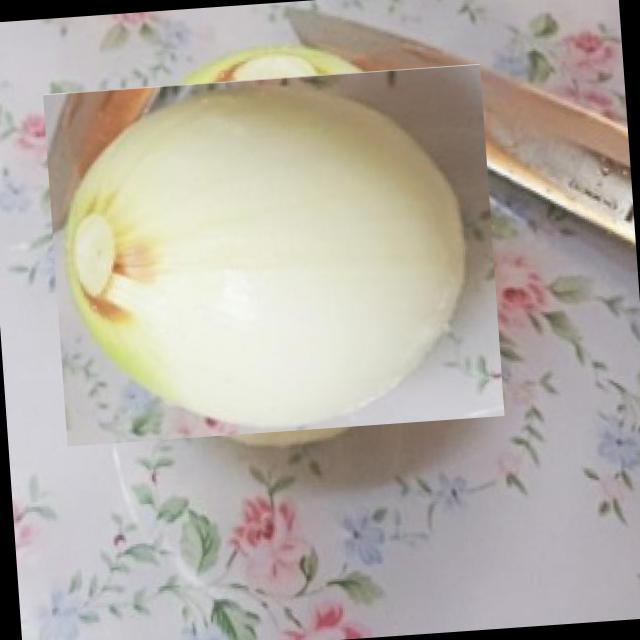Onion: (63, 43, 485, 466)
